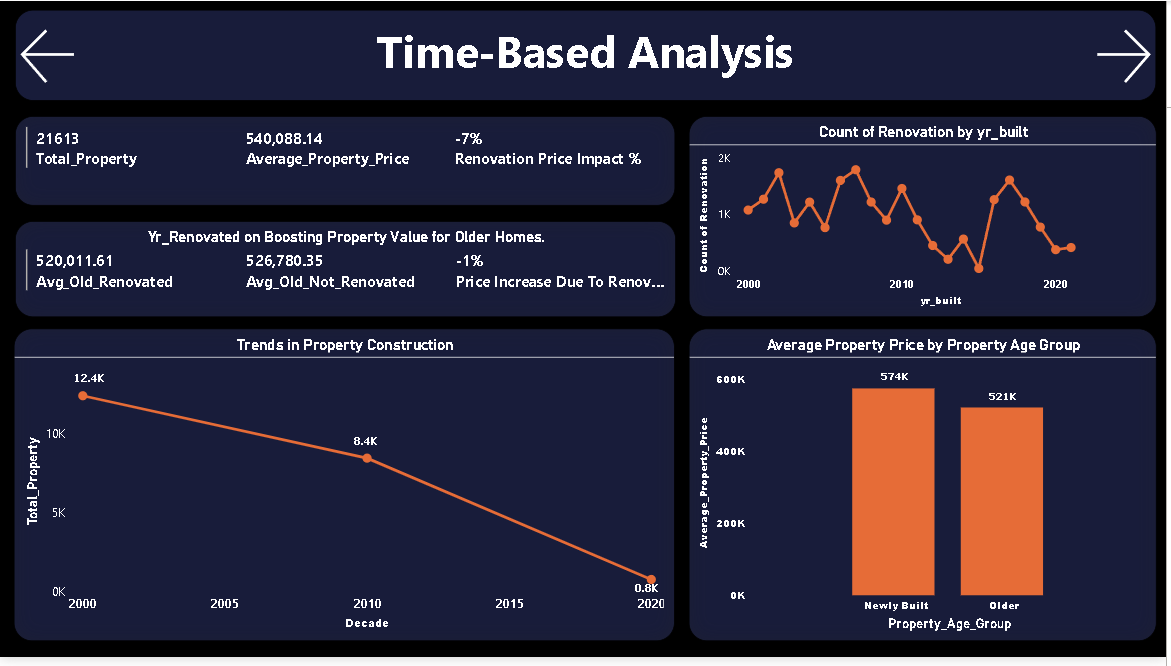

The dashboard page shown, as its layout file describes it:
{"tool":"powerbi","page":{"name":"Time-Based Analysis","canvas":[1280,720],"ordinal":4},"visuals":[{"type":"lineChart","title":"Trends in Property Construction ","fields":{"Category":["Property Detailed Data.Decade"],"Y":["Property Detailed Data.Total_Property"]},"box":[15.1,359.5,725.9,343.1],"z":0},{"type":"clusteredColumnChart","title":"Average Property Price by Property Age Group","fields":{"Y":["Property Detailed Data.Average_Property_Price"],"Category":["Property Detailed Data.Property_Age_Group"]},"box":[756.1,359.5,513.2,343.1],"z":1000},{"type":"multiRowCard","title":"Yr_Renovated on Boosting Property Value for Older Homes.","fields":{"Values":["Property Detailed Data.Avg_Old_Renovated","Property Detailed Data.Avg_Old_Not_Renovated","Property Detailed Data.Price Increase Due To Renovation %"]},"box":[16.5,241.5,725.9,105.7],"z":2000},{"type":"textbox","box":[16.5,9.6,1252.8,100.2],"z":3000},{"type":"lineChart","fields":{"Category":["Property Detailed Data.yr_built"],"Y":["CountNonNull(Property Detailed Data.Renovation)"]},"box":[756.1,126.2,513.2,220.9],"z":4000},{"type":"multiRowCard","fields":{"Values":["Property Detailed Data.Total_Property","Property Detailed Data.Average_Property_Price","Property Detailed Data.Renovation Price Impact %"]},"box":[16.5,126.2,724.5,98.8],"z":5000},{"type":"actionButton","box":[1196.6,22,72.7,76.8],"z":6000},{"type":"actionButton","box":[16.5,22,72.7,76.8],"z":7000}]}

Visuals, with their boxes in screenshot pixels (x1, y1, x2, y2), scaled from the page's 1280x720 canvas onto the 1171x666 screenshot:
"Trends in Property Construction " lineChart: <box>14,333,678,650</box>
"Average Property Price by Property Age Group" clusteredColumnChart: <box>692,333,1161,650</box>
"Yr_Renovated on Boosting Property Value for Older Homes." multiRowCard: <box>15,223,679,321</box>
textbox: <box>15,9,1161,102</box>
lineChart - Property Detailed Data.yr_built x CountNonNull(Property Detailed Data.Renovation): <box>692,117,1161,321</box>
multiRowCard - Property Detailed Data.Total_Property x Property Detailed Data.Average_Property_Price: <box>15,117,678,208</box>
actionButton: <box>1095,20,1161,91</box>
actionButton: <box>15,20,82,91</box>
